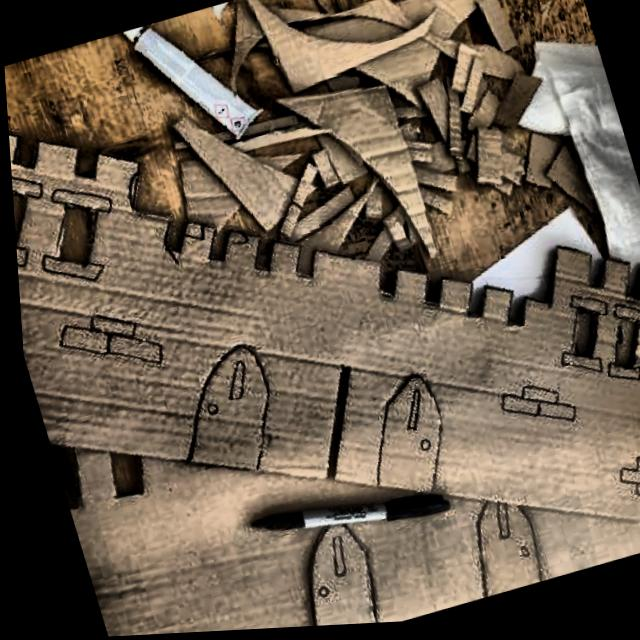Cardbox: (0, 0, 640, 640), (264, 0, 562, 241), (170, 68, 442, 311)
